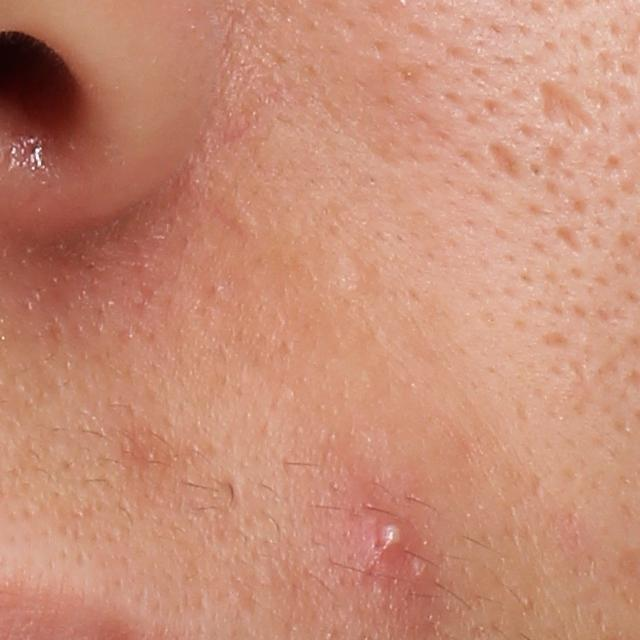atrophic_scar: (538, 81, 606, 142), (207, 194, 255, 246), (487, 138, 526, 185), (555, 221, 591, 261)
pustule: (342, 492, 427, 579)
